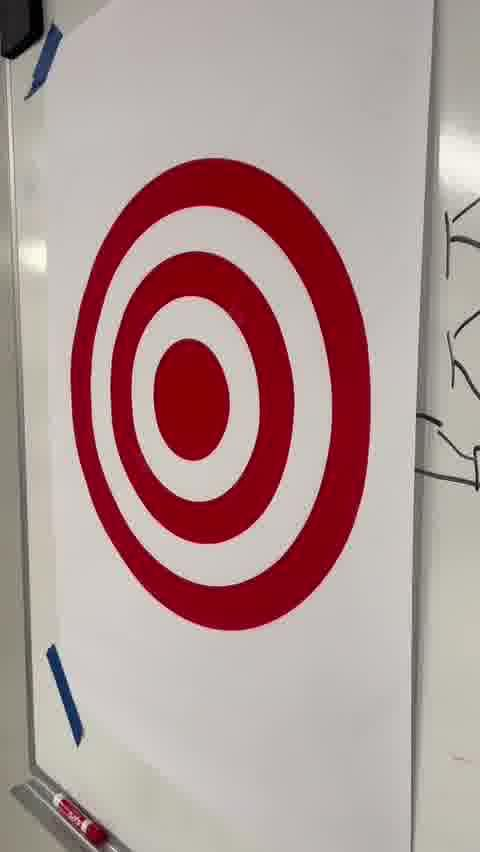target_red: (65, 159, 370, 630)
